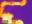Hotspot: (0, 0, 26, 15), (2, 14, 13, 23), (15, 20, 24, 23)
